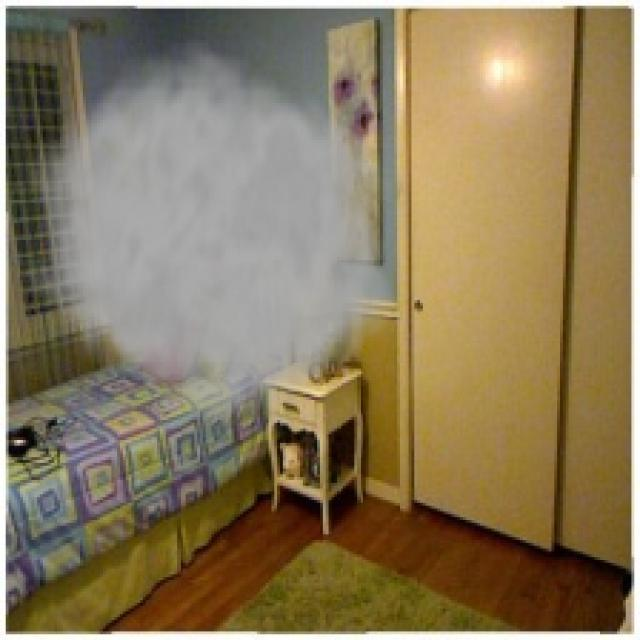Smoke: (26, 32, 408, 434)
